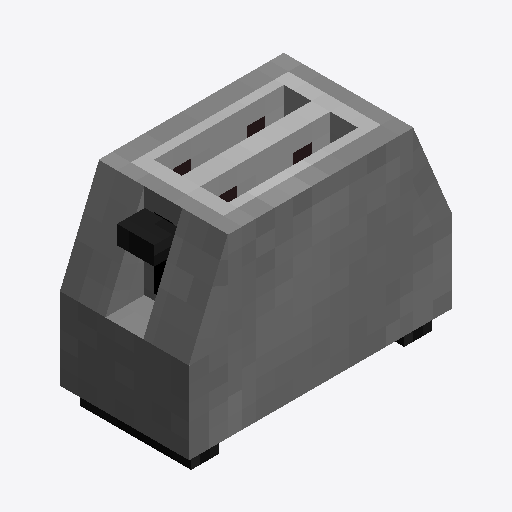
A Minecraft block model of 14 cuboids, rendered isometrically (azimuth 45°, elevation 35.3°) with the resource pack's own textures.
Visible parts, largest first — SlotS, SideW2, SideW1, SideE1, SideW3s, SideW3n, SlotN, SlotMid, Base, SideE2, Lever, SideE3 (+1 smaller).
Part boxes in pixels (left/top/right/bottom): SlotS: left=228, top=128, right=385, bottom=378; SideW2: left=60, top=292, right=227, bottom=459; SideW1: left=99, top=144, right=255, bottom=437; SideE1: left=257, top=53, right=412, bottom=345; SideW3s: left=144, top=208, right=227, bottom=364; SideW3n: left=60, top=160, right=143, bottom=316; SlotN: left=127, top=69, right=283, bottom=175; SlotMid: left=182, top=101, right=329, bottom=201; Base: left=189, top=304, right=385, bottom=421; SideE2: left=413, top=214, right=451, bottom=330; Lever: left=117, top=208, right=176, bottom=265; SideE3: left=413, top=128, right=451, bottom=235.
Size of the model in its own units: 7.1 by 5.25 by 3.5.